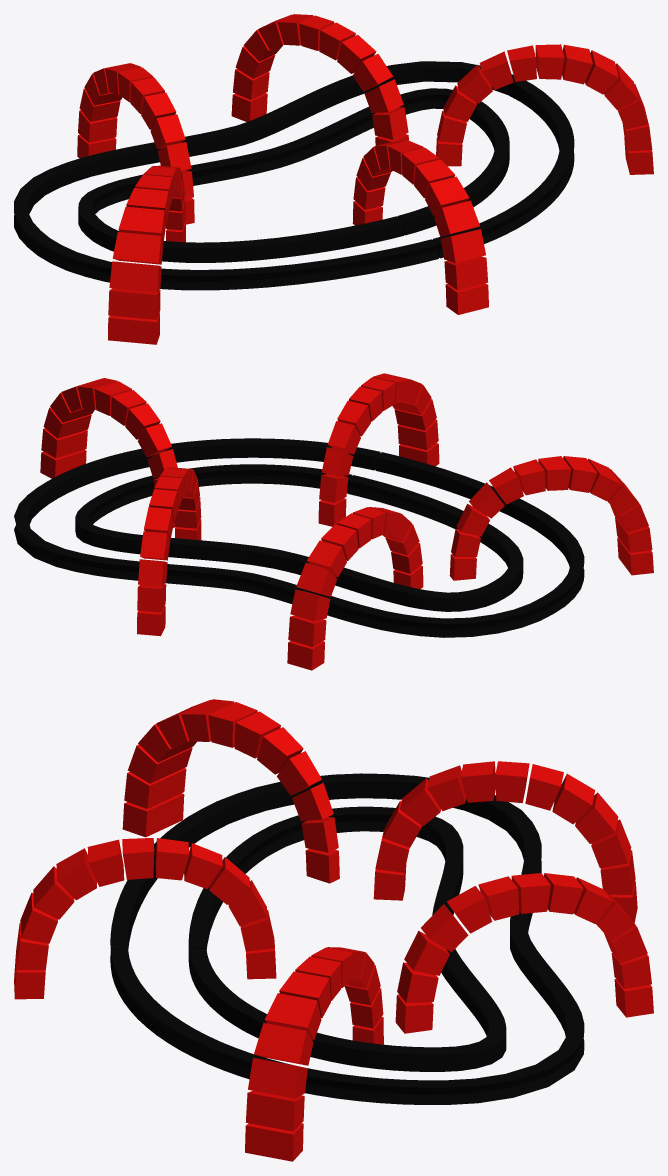
File: circuit_visual.dae
3 views of the same model, one above another, from view 1: azimuth 30°, elevation 25°; view 2: azimuth 150°, elevation 25°; view 3: azimuth 270°, elevation 25° (orthographic). The views are drawn at different scales.
Parts seen in each view (by area): view 1: Cube.001, Cube; view 2: Cube.001, Cube; view 3: Cube.001, Cube.
Boxes of the visible parts, x1,y1,x2,y2 form: Cube.001: (77, 14, 653, 344); Cube: (14, 61, 574, 290); Cube.001: (40, 373, 653, 670); Cube: (14, 438, 584, 637); Cube.001: (14, 699, 653, 1161); Cube: (110, 773, 584, 1104).
Bounding box in the file's own units: 21.6 × 16.64 × 4.14.
